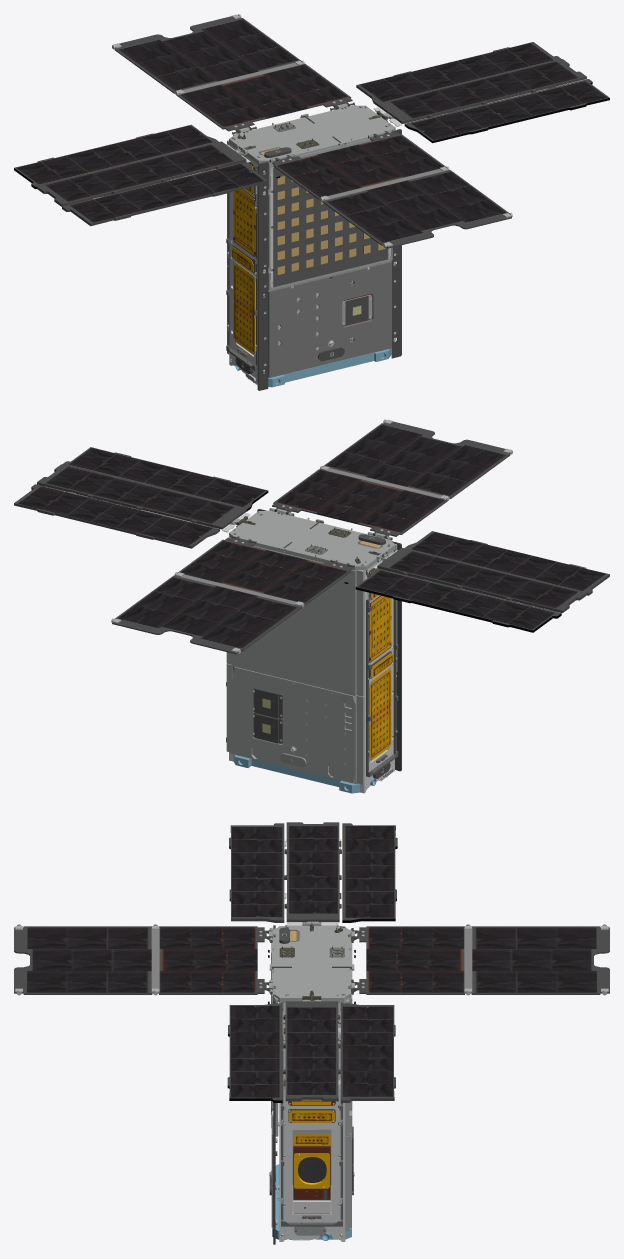
Rendered from biosentinel.gltf.
3 renders of one model, top to bottom at view 1: azimuth 30°, elevation 25°; view 2: azimuth 150°, elevation 25°; view 3: azimuth 270°, elevation 25°, orthographic. The views are drawn at different scales.
Visible parts, largest first — view 1: Biosentinel, polySurface28.001, polySurface28, polySurface27, polySurface27.001, polySurface1504.001, polySurface1504, polySurface1503.001, polySurface1505, polySurface1505.001, polySurface1503, polySurface61 (+1 smaller); view 2: Biosentinel, polySurface28, polySurface28.001, polySurface27.001, polySurface27, polySurface1504.001, polySurface1504, polySurface1505.001, polySurface1503, polySurface1505, polySurface1503.001, polySurface61.001 (+1 smaller); view 3: Biosentinel, polySurface28, polySurface28.001, polySurface27, polySurface27.001, polySurface1504, polySurface1504.001, polySurface1503.001, polySurface1505.001, polySurface1505, polySurface1503.
Boxes of the visible parts, left/top/right/bottom form: Biosentinel: left=226, top=102, right=401, bottom=390; polySurface28.001: left=322, top=170, right=511, bottom=248; polySurface28: left=114, top=16, right=300, bottom=93; polySurface27: left=177, top=63, right=352, bottom=131; polySurface27.001: left=272, top=132, right=445, bottom=199; polySurface1504.001: left=37, top=141, right=246, bottom=206; polySurface1504: left=377, top=59, right=586, bottom=123; polySurface1503.001: left=62, top=161, right=267, bottom=226; polySurface1505: left=404, top=79, right=609, bottom=143; polySurface1505.001: left=14, top=124, right=218, bottom=189; polySurface1503: left=356, top=42, right=560, bottom=105; polySurface61: left=182, top=63, right=303, bottom=93; Biosentinel: left=226, top=508, right=401, bottom=793; polySurface28: left=112, top=575, right=302, bottom=654; polySurface28.001: left=323, top=421, right=510, bottom=498; polySurface27.001: left=272, top=469, right=447, bottom=536; polySurface27: left=178, top=537, right=352, bottom=605; polySurface1504.001: left=377, top=548, right=586, bottom=612; polySurface1504: left=37, top=464, right=246, bottom=529; polySurface1505.001: left=355, top=568, right=561, bottom=632; polySurface1503: left=14, top=484, right=219, bottom=548; polySurface1505: left=62, top=447, right=268, bottom=511; polySurface1503.001: left=404, top=531, right=609, bottom=595; polySurface61.001: left=321, top=468, right=442, bottom=499; Biosentinel: left=268, top=922, right=357, bottom=1244; polySurface28: left=471, top=926, right=609, bottom=994; polySurface28.001: left=14, top=926, right=152, bottom=994; polySurface27: left=357, top=926, right=464, bottom=994; polySurface27.001: left=159, top=926, right=266, bottom=994; polySurface1504: left=283, top=1001, right=340, bottom=1101; polySurface1504.001: left=284, top=822, right=341, bottom=922; polySurface1503.001: left=229, top=823, right=284, bottom=922; polySurface1505.001: left=342, top=823, right=397, bottom=922; polySurface1505: left=227, top=1003, right=282, bottom=1102; polySurface1503: left=341, top=1003, right=395, bottom=1102.
Size of the model in its own units: 0.8672 by 0.365 by 0.7886.
3 materials, 2 textured.
